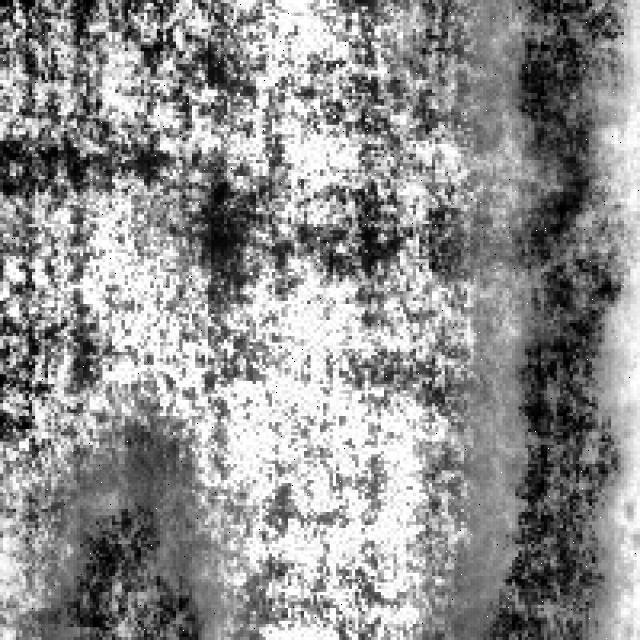Scratches: (506, 141, 636, 637), (483, 0, 640, 176), (80, 474, 211, 636)
